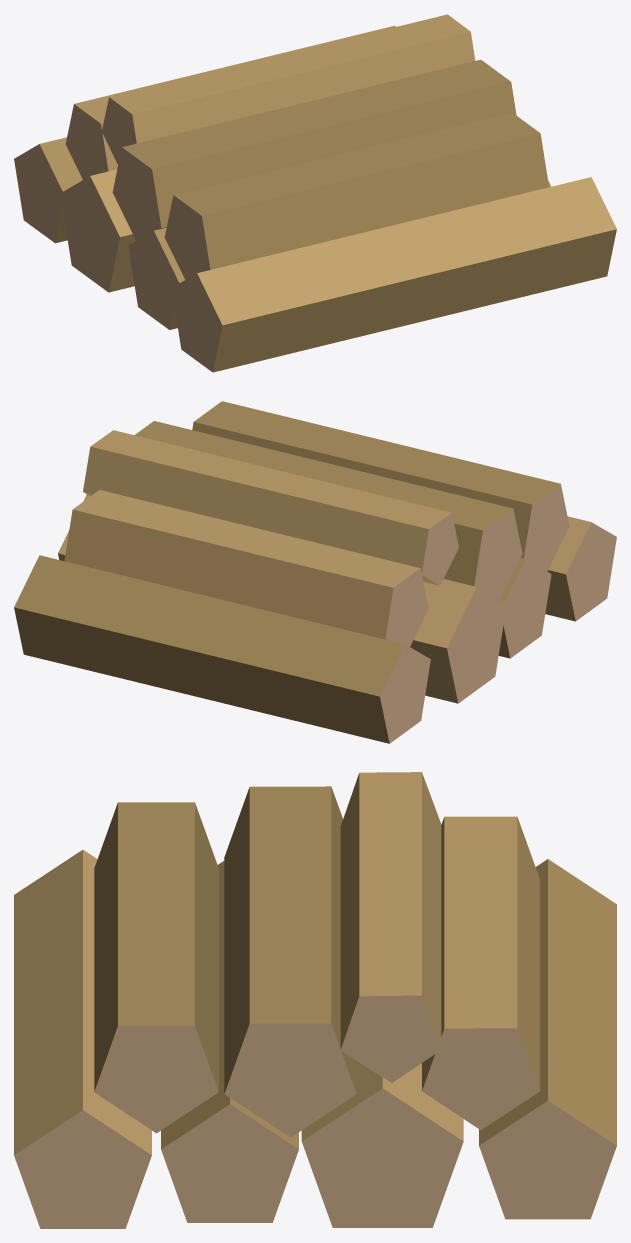
File: Oak_Firewood_Pile_01.fbx
The picture shows the model from 3 angles, top to bottom: view 1: azimuth 30°, elevation 25°; view 2: azimuth 150°, elevation 25°; view 3: azimuth 270°, elevation 25°; orthographic projection. The views are drawn at different scales.
Parts seen in each view (by area): view 1: Oak_Firewood_Pile_01; view 2: Oak_Firewood_Pile_01; view 3: Oak_Firewood_Pile_01.
Boxes of the visible parts, bbox=[...] form: Oak_Firewood_Pile_01: bbox=[14, 14, 616, 372]; Oak_Firewood_Pile_01: bbox=[14, 401, 616, 743]; Oak_Firewood_Pile_01: bbox=[14, 772, 616, 1228].
Bounding box in the file's own units: 58.97 × 23.34 × 57.7.
